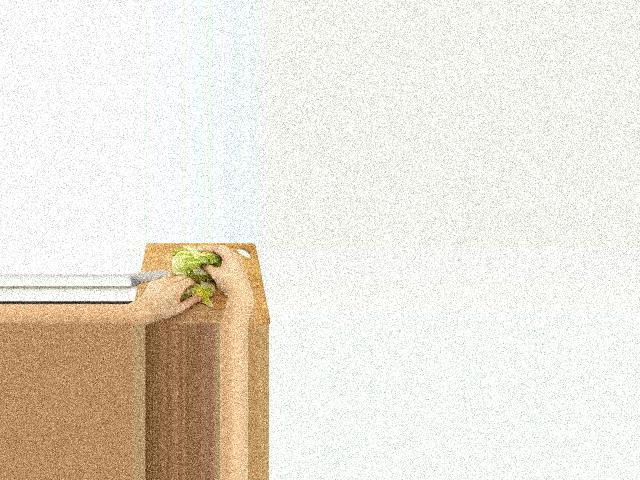lettuce: (170, 246, 218, 279)
